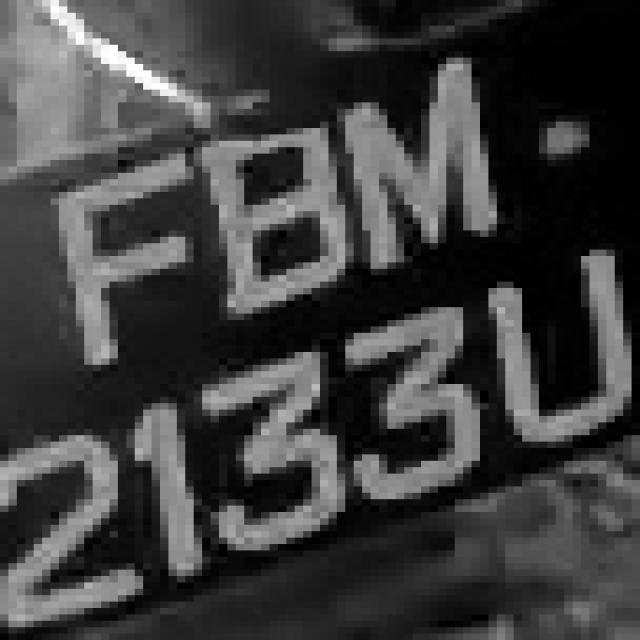1: (126, 390, 245, 589)
2: (8, 416, 135, 627)
3: (320, 314, 488, 512), (194, 358, 345, 538)
B: (160, 83, 345, 320)
F: (8, 128, 219, 371)
M: (303, 64, 514, 256)
U: (446, 237, 640, 448)
